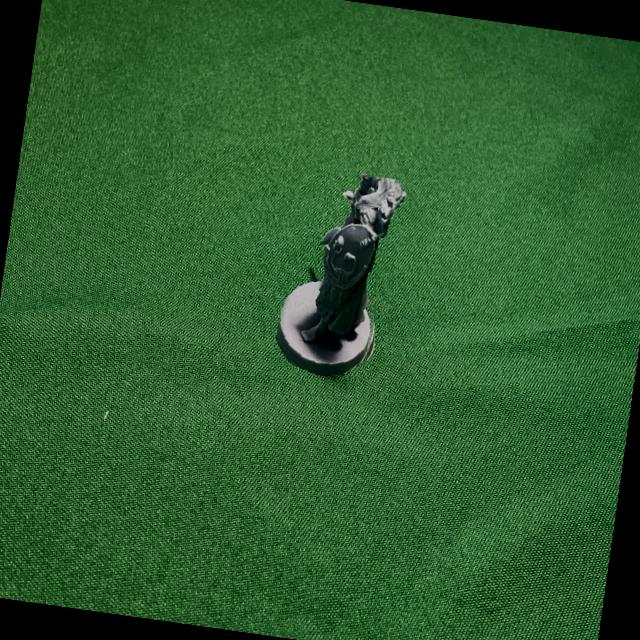isis_follower: (274, 165, 402, 381)
